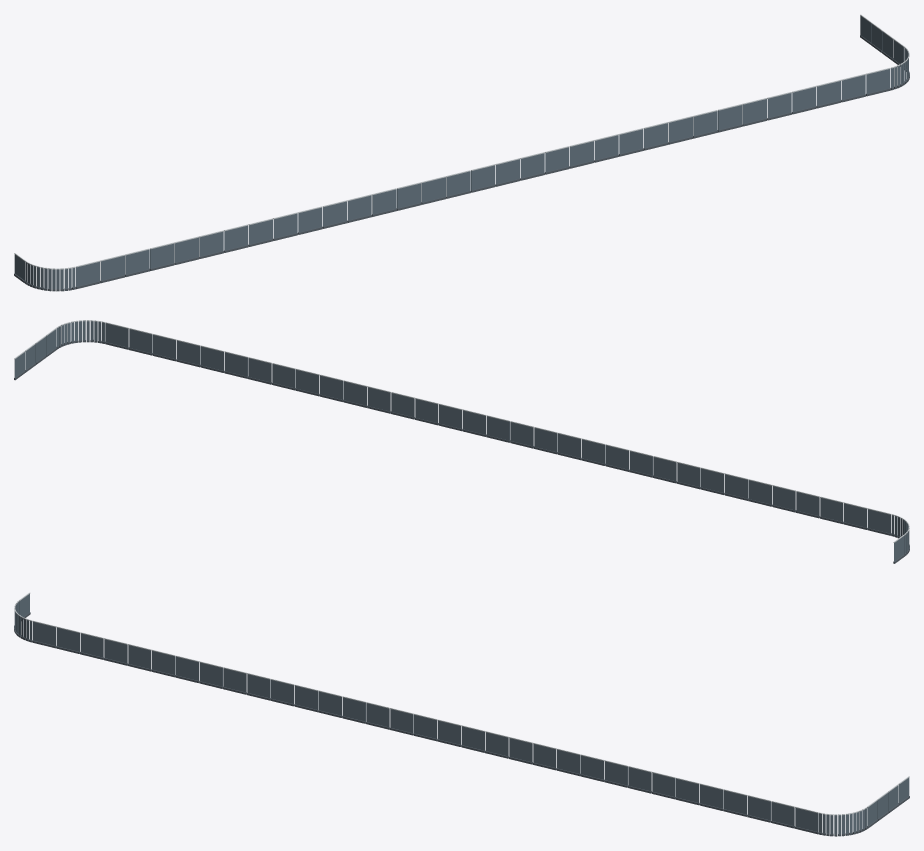
Rendered from terrace.glb.
3 views of the same model, one above another, from view 1: azimuth 30°, elevation 25°; view 2: azimuth 150°, elevation 25°; view 3: azimuth 330°, elevation 25° (orthographic). The views are drawn at different scales.
Bounding box in the file's own units: 45.51 × 1.11 × 5.59.
